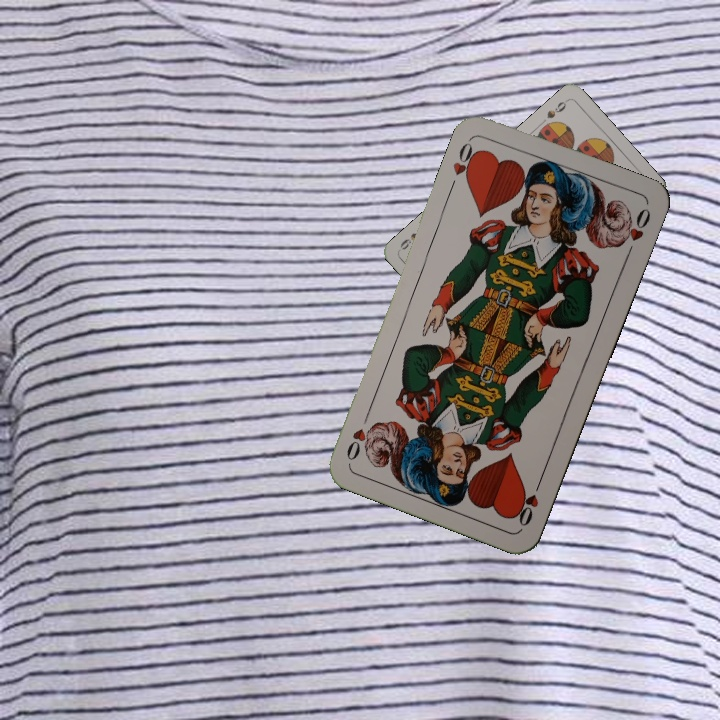HO: (511, 473, 546, 529), (448, 135, 483, 186)
S9: (543, 96, 571, 121)
